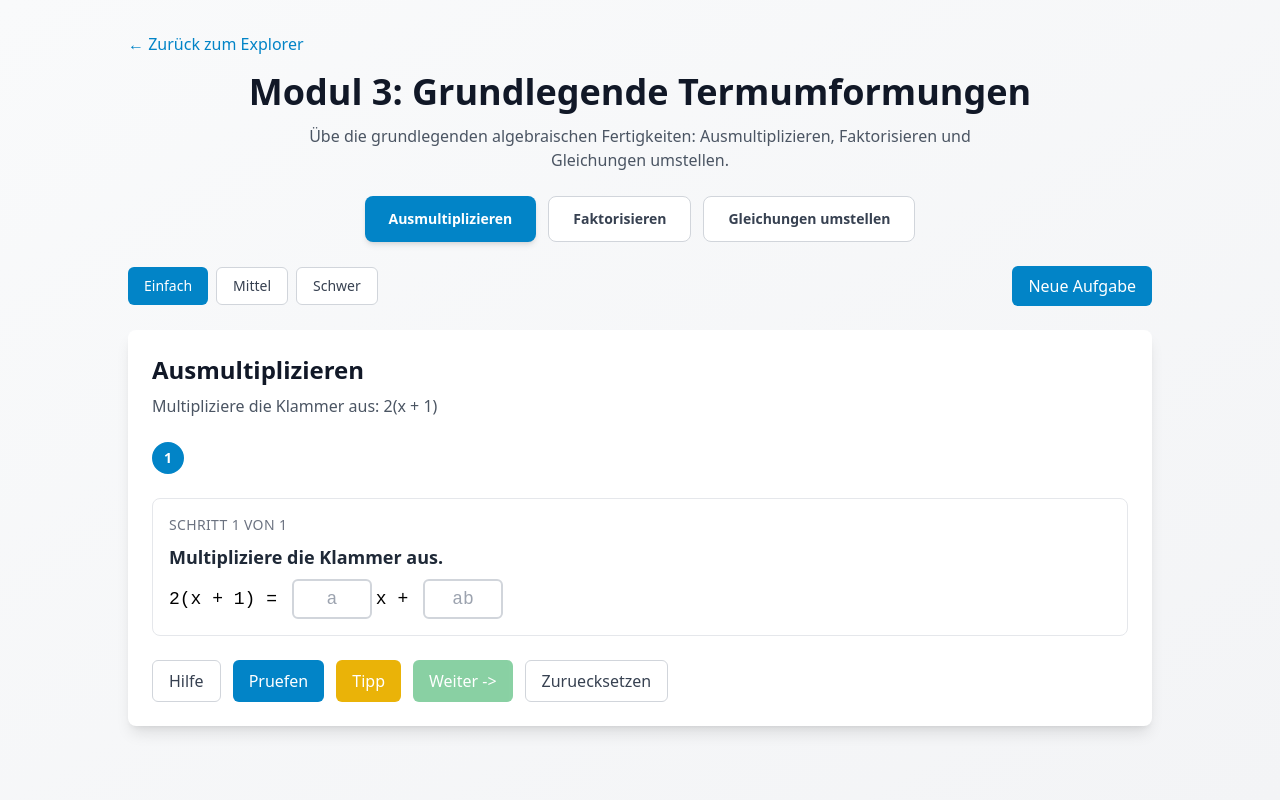
Test case: Module3Page › shows score on category tabs after completing exercises
Note: Generate an exercise (increments total)
Step 1. Click the button with test id "new-exercise-button" → (1082, 286), box [1012, 266, 1152, 306]
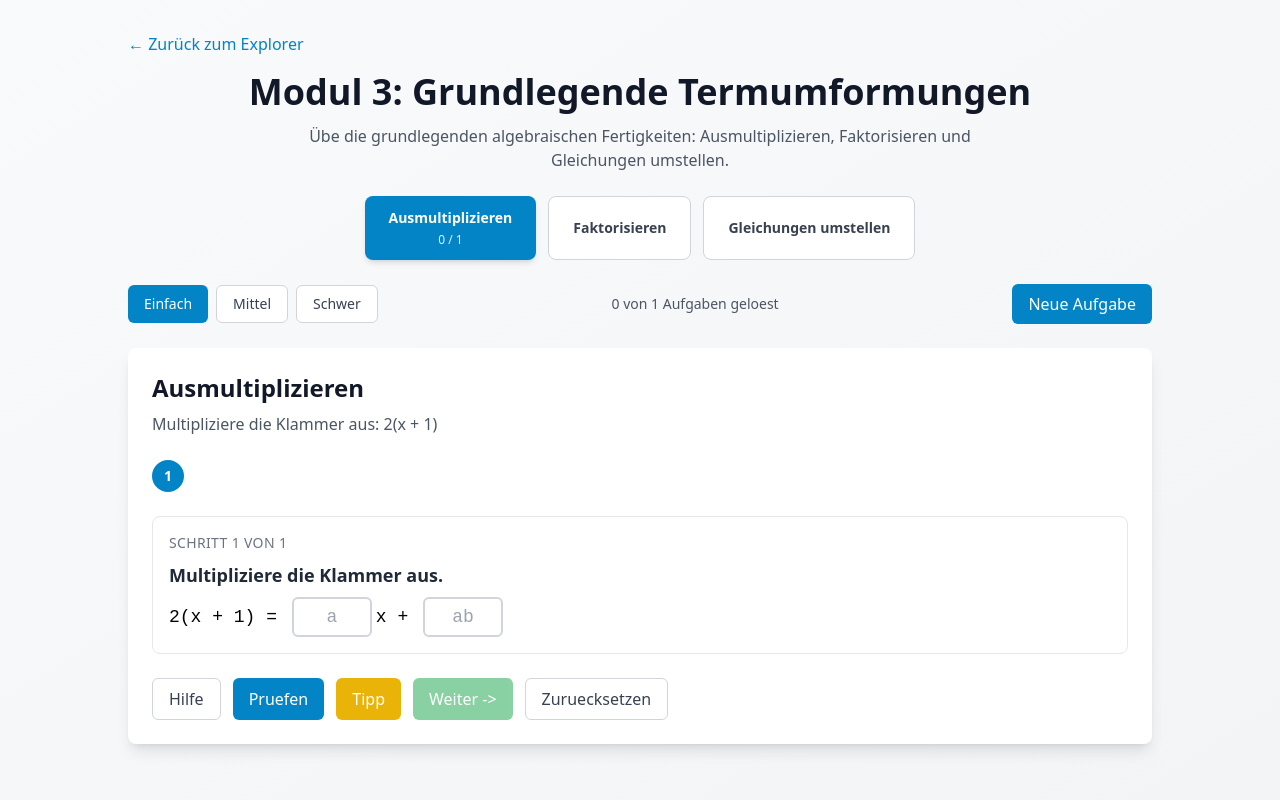
Check: the tab with test id "category-expanding" shows "0", box [364, 196, 536, 260]
Check: the tab with test id "category-expanding" shows "1", box [364, 196, 536, 260]
